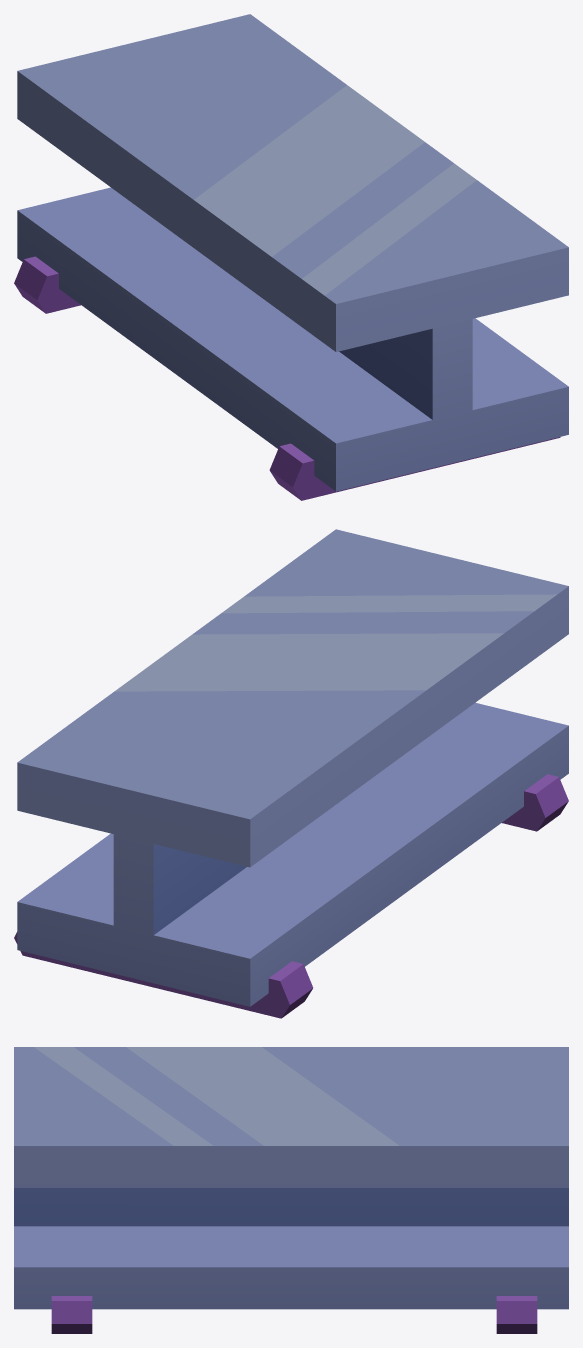
Rendered from obstacle-steel_beam_platform_H1.glb.
The picture shows the model from 3 angles, top to bottom: view 1: azimuth 30°, elevation 25°; view 2: azimuth 150°, elevation 25°; view 3: azimuth 270°, elevation 25°; orthographic projection. The views are drawn at different scales.
Parts seen in each view (by area): view 1: obstacle-steel_beam_platform_H1; view 2: obstacle-steel_beam_platform_H1; view 3: obstacle-steel_beam_platform_H1.
Part boxes in pixels (bbox=[...]): obstacle-steel_beam_platform_H1: bbox=[14, 14, 568, 500]; obstacle-steel_beam_platform_H1: bbox=[14, 529, 568, 1018]; obstacle-steel_beam_platform_H1: bbox=[14, 1047, 568, 1333].
Bounding box in the file's own units: 3 × 2.18 × 6.
